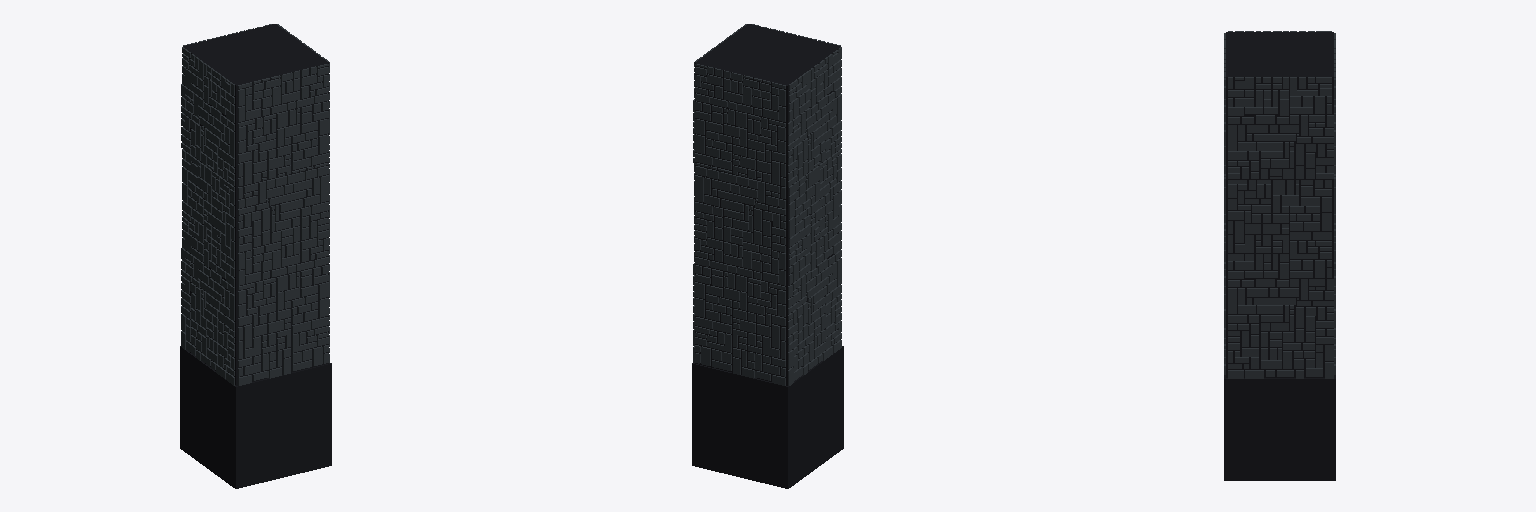
3 views of the same model, side by side, from view 1: azimuth 30°, elevation 25°; view 2: azimuth 150°, elevation 25°; view 3: azimuth 270°, elevation 25° (orthographic).
Visible parts, largest first — view 1: object 1; view 2: object 1; view 3: object 1.
Boxes of the visible parts, <box> form: object 1: <box>180,24,331,488</box>; object 1: <box>692,24,843,488</box>; object 1: <box>1224,31,1335,480</box>.
Size of the model in its own units: 6.4 by 25.6 by 6.4.
1 materials, 1 textured.